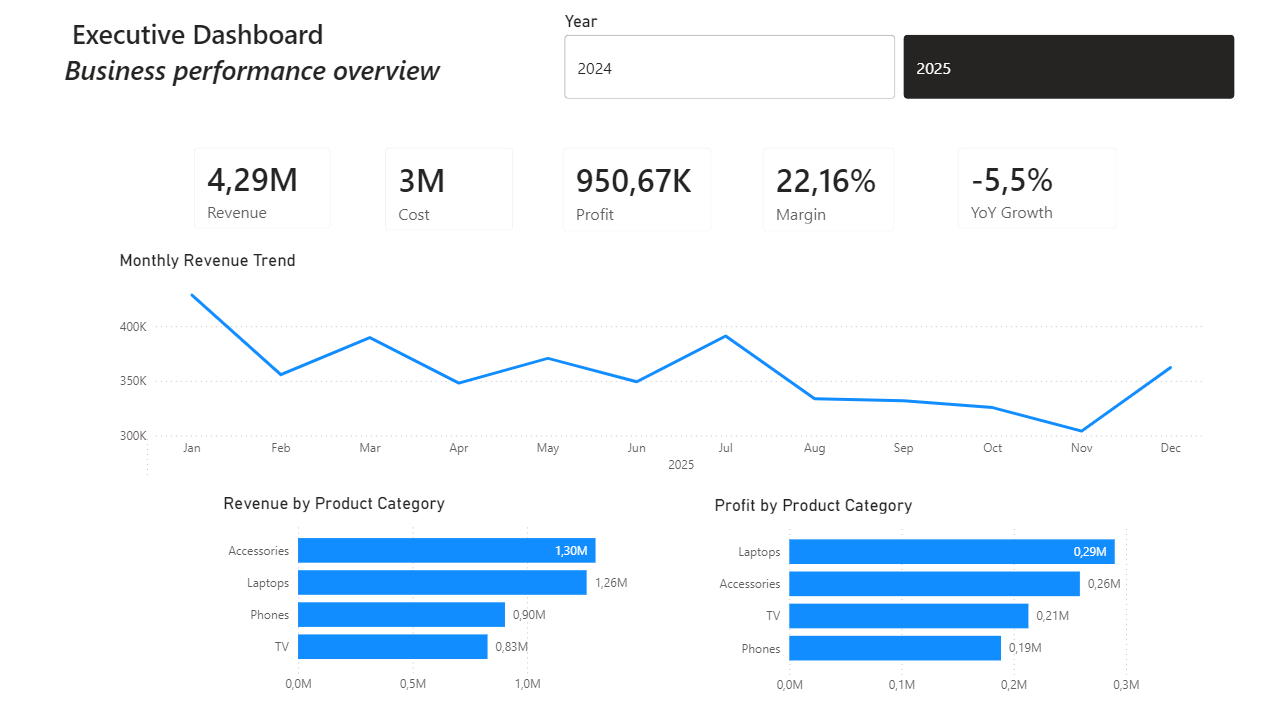

The dashboard page shown, as its layout file describes it:
{"tool":"powerbi","page":{"name":"Executive Dashboard","canvas":[1280,720],"ordinal":0},"visuals":[{"type":"cardVisual","fields":{"Data":["Measures (2).Total Sales"]},"box":[180.3,133.7,171.3,115.7],"z":0},{"type":"cardVisual","fields":{"Data":["Measures (2).Total Cost"]},"box":[371.2,133.7,162.3,117.2],"z":1000},{"type":"cardVisual","fields":{"Data":["Measures (2).Total Profit"]},"box":[548.5,133.7,183.3,118.7],"z":2000},{"type":"cardVisual","fields":{"Data":["Measures (2).Profit Margin"]},"box":[748.3,133.7,166.8,118.7],"z":3000},{"type":"lineChart","title":"Monthly Revenue Trend","fields":{"Category":["Calendar.Year","Calendar.MonthName"],"Y":["Measures (2).Total Sales"]},"box":[117.4,251.9,1096.9,237.2],"z":4000},{"type":"advancedSlicerVisual","fields":{"Values":["Calendar.Year"]},"box":[562.6,13.7,680.6,93.3],"z":5000},{"type":"barChart","title":"Revenue by Product Category","fields":{"Category":["ProductCategory.Category"],"Y":["Measures (2).Total Sales"]},"box":[220.9,495.9,429.8,208.9],"z":6000},{"type":"barChart","title":"Profit by Product Category","fields":{"Category":["ProductCategory.Category"],"Y":["Measures (2).Total Profit"]},"box":[712.9,497.7,462.2,209.1],"z":7000},{"type":"cardVisual","fields":{"Data":["Measures (2).YoY Growth %"]},"box":[943.7,133.7,193.8,115.7],"z":8000},{"type":"textbox","box":[0,531,149.6,71.4],"z":10000},{"type":"textbox","box":[54.9,13.7,477.5,93.3],"z":11000}]}

Visuals, with their boxes in screenshot pixels (x1, y1, x2, y2), scaled from the page's 1280x720 canvas onto the 1273x713 screenshot:
cardVisual - Measures (2).Total Sales: (left=179, top=132, right=350, bottom=247)
cardVisual - Measures (2).Total Cost: (left=369, top=132, right=531, bottom=248)
cardVisual - Measures (2).Total Profit: (left=546, top=132, right=728, bottom=250)
cardVisual - Measures (2).Profit Margin: (left=744, top=132, right=910, bottom=250)
"Monthly Revenue Trend" lineChart: (left=117, top=249, right=1208, bottom=484)
advancedSlicerVisual - Calendar.Year: (left=560, top=14, right=1236, bottom=106)
"Revenue by Product Category" barChart: (left=220, top=491, right=647, bottom=698)
"Profit by Product Category" barChart: (left=709, top=493, right=1169, bottom=700)
cardVisual - Measures (2).YoY Growth %: (left=939, top=132, right=1131, bottom=247)
textbox: (left=0, top=526, right=149, bottom=597)
textbox: (left=55, top=14, right=529, bottom=106)
